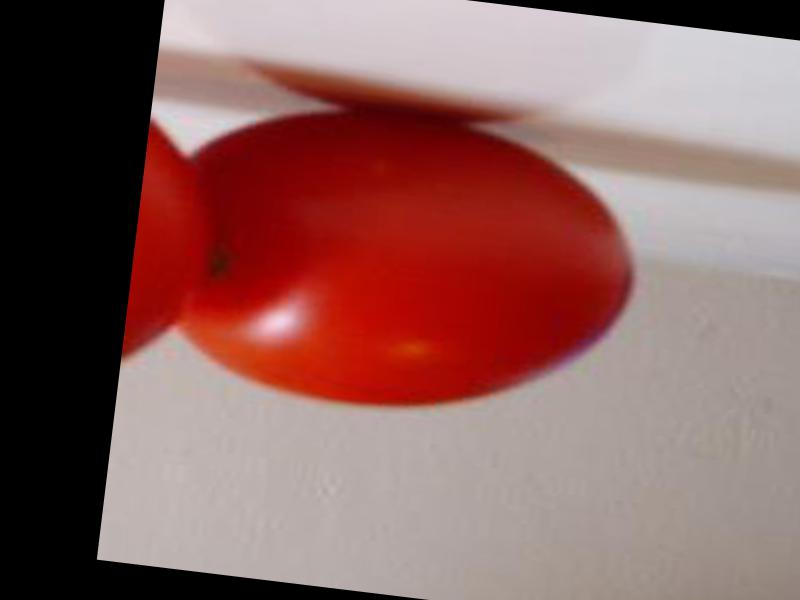Tomato: (168, 87, 647, 434)
